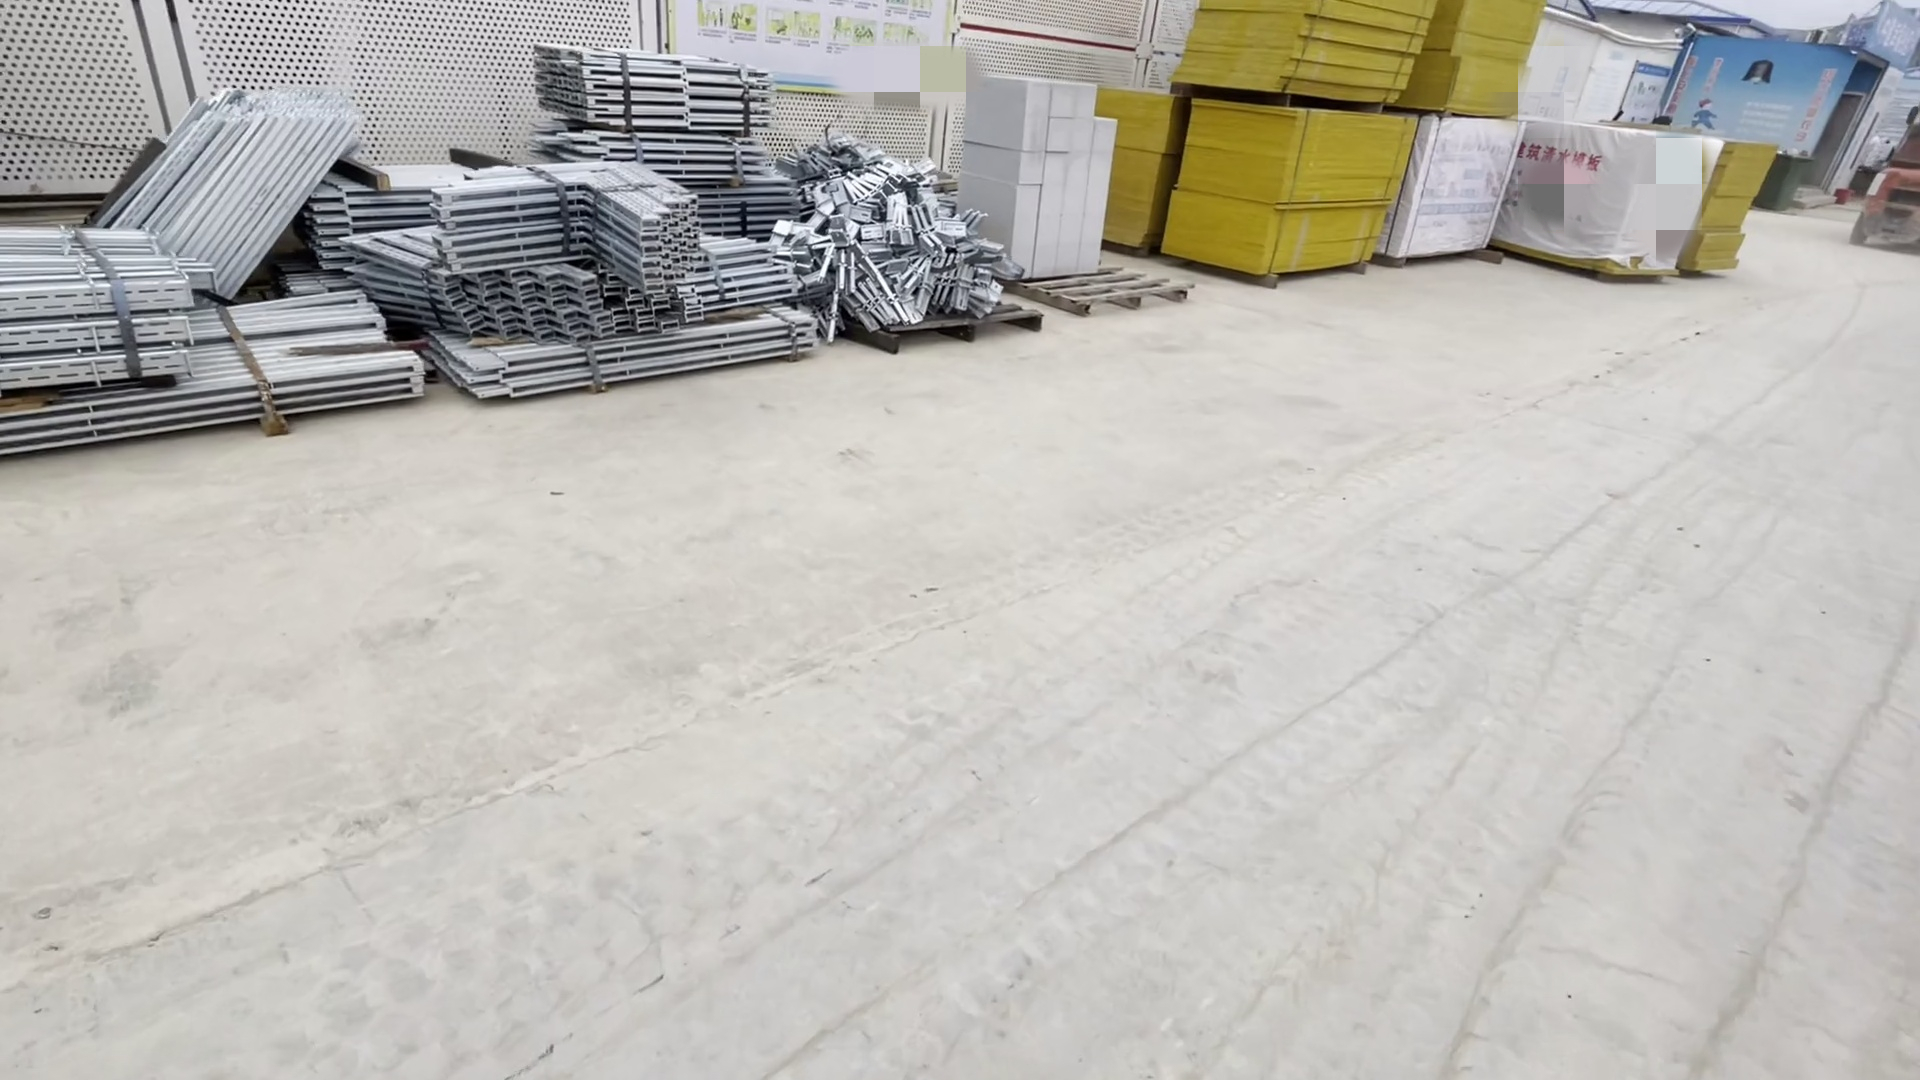board: (1185, 1, 1415, 290)
brick: (960, 65, 1127, 285)
scaffold: (1, 47, 810, 451)
